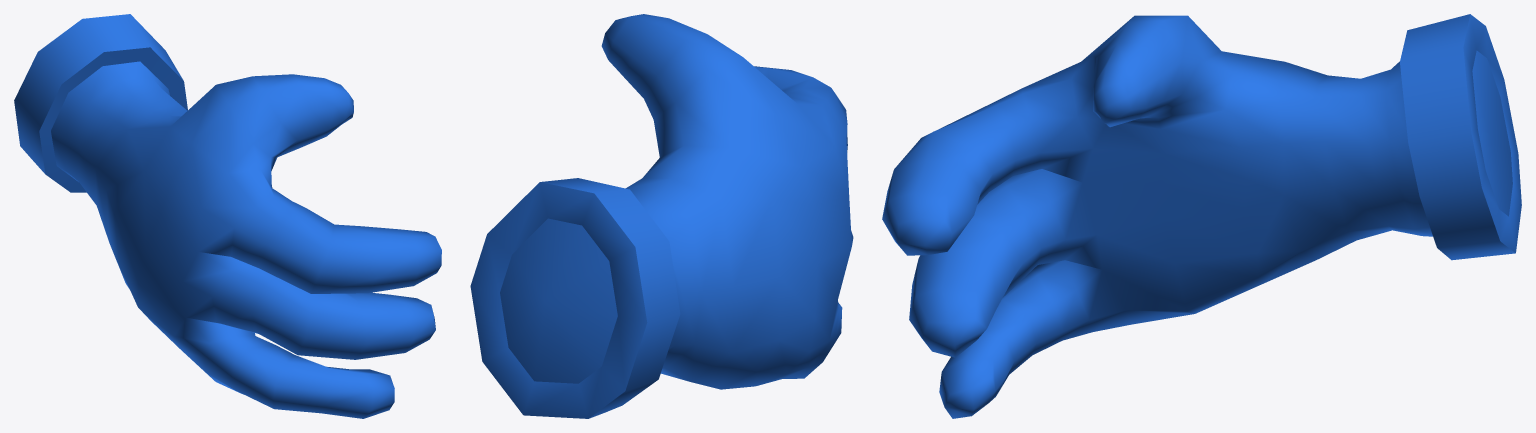
File: hand_new.fbx
3 renders of one model, left to right at view 1: azimuth 30°, elevation 25°; view 2: azimuth 150°, elevation 25°; view 3: azimuth 270°, elevation 25°, orthographic. The views are drawn at different scales.
Parts seen in each view (by area): view 1: Hand_new; view 2: Hand_new; view 3: Hand_new.
Boxes of the visible parts, x1,y1,x2,y2 form: Hand_new: [14, 14, 441, 418]; Hand_new: [470, 14, 853, 418]; Hand_new: [882, 14, 1521, 418].
Bounding box in the file's own units: 101 × 134 × 211.
